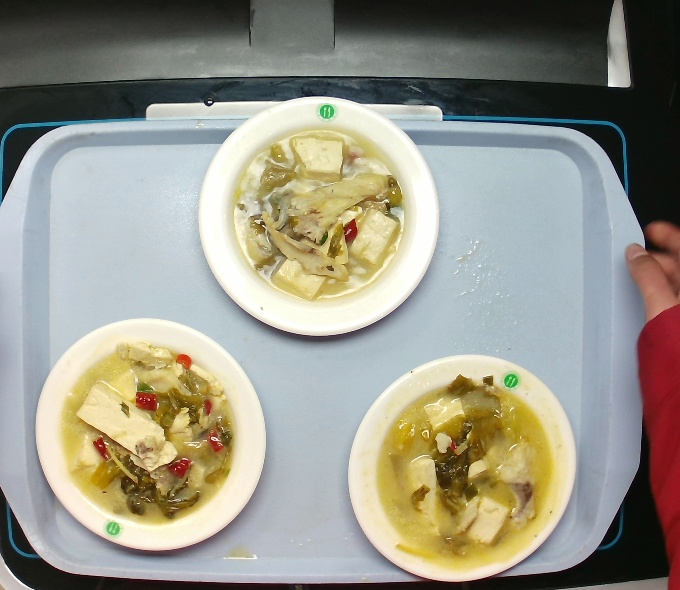wcq-SuanCaiDouFuYu: (364, 366, 565, 564), (228, 126, 409, 306), (61, 345, 240, 523)
